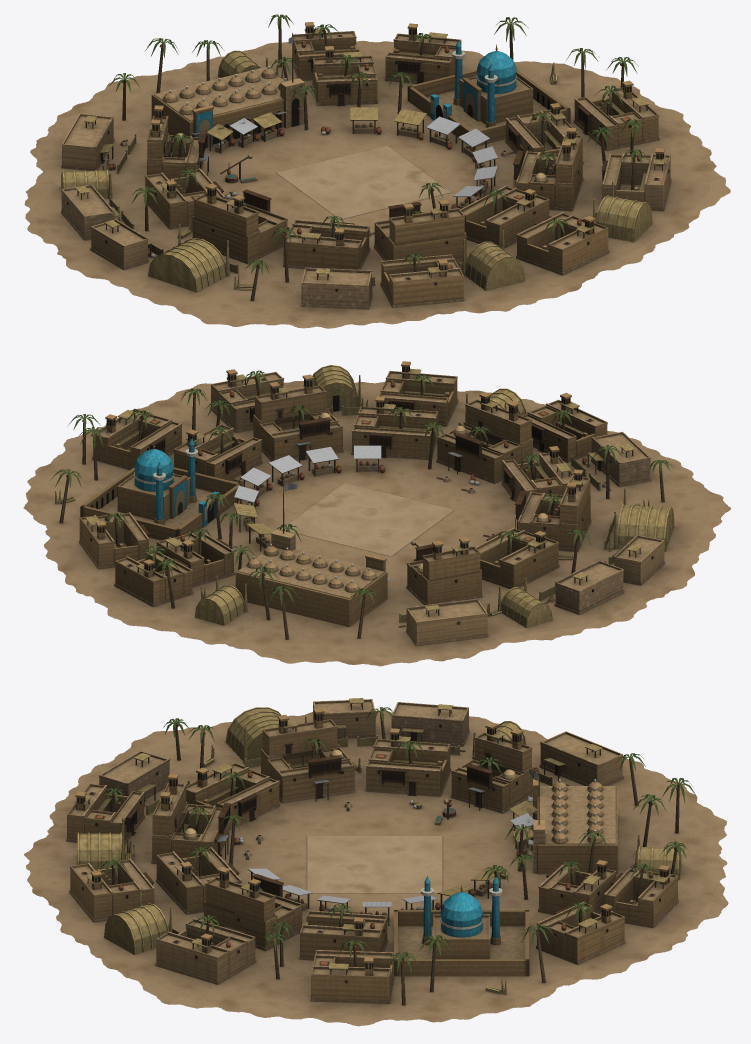
Rendered from gunpowder-town-big-b-mesopotamia.glb.
3 views of the same model, one above another, from view 1: azimuth 30°, elevation 25°; view 2: azimuth 150°, elevation 25°; view 3: azimuth 270°, elevation 25° (orthographic). The views are drawn at different scales.
Parts seen in each view (by area): view 1: LOD0; view 2: LOD0; view 3: LOD0.
Boxes of the visible parts, left/top/right/bottom form: LOD0: left=24, top=14, right=730, bottom=328; LOD0: left=23, top=361, right=730, bottom=666; LOD0: left=24, top=698, right=728, bottom=1026.
Size of what is drawn, in the model's own units: 7.93 by 1.13 by 7.49.
3 materials, 3 textured.
